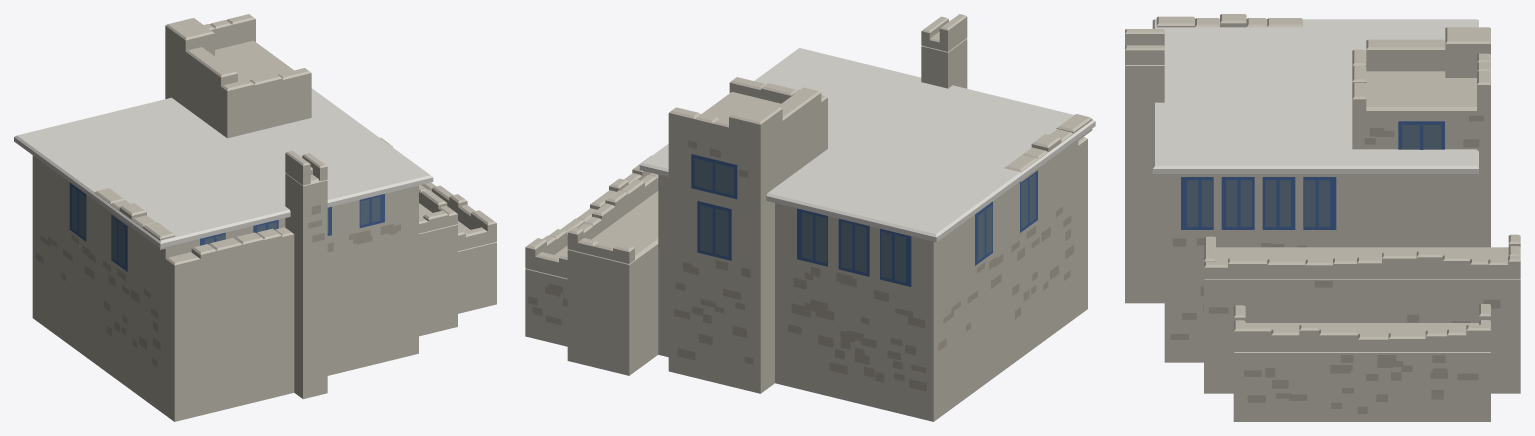
Rendered from grand-canyon-lookout-studio.glb.
The picture shows the model from 3 angles, left to right: view 1: azimuth 30°, elevation 25°; view 2: azimuth 150°, elevation 25°; view 3: azimuth 270°, elevation 25°; orthographic projection. The views are drawn at different scales.
Visible parts, largest first — view 1: Lookout Studio; view 2: Lookout Studio; view 3: Lookout Studio.
Boxes of the visible parts, x1=… form: Lookout Studio: x1=14, y1=14, x2=496, y2=421; Lookout Studio: x1=525, y1=14, x2=1095, y2=421; Lookout Studio: x1=1125, y1=14, x2=1520, y2=421.
Bounding box in the file's own units: 24.33 × 15.5 × 20.03.
